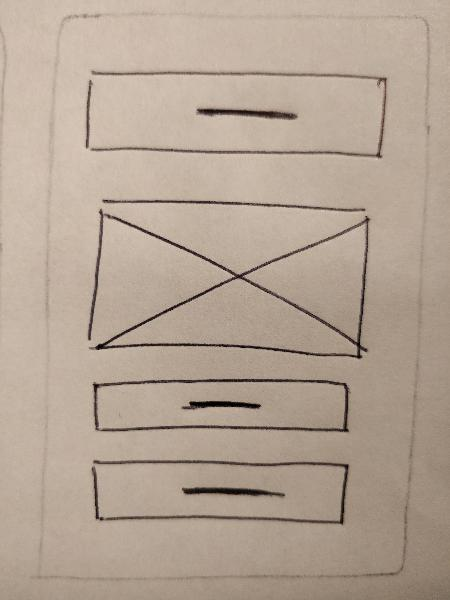button: (79, 59, 390, 166), (84, 452, 355, 529), (89, 372, 358, 441)
image: (81, 190, 373, 366)
